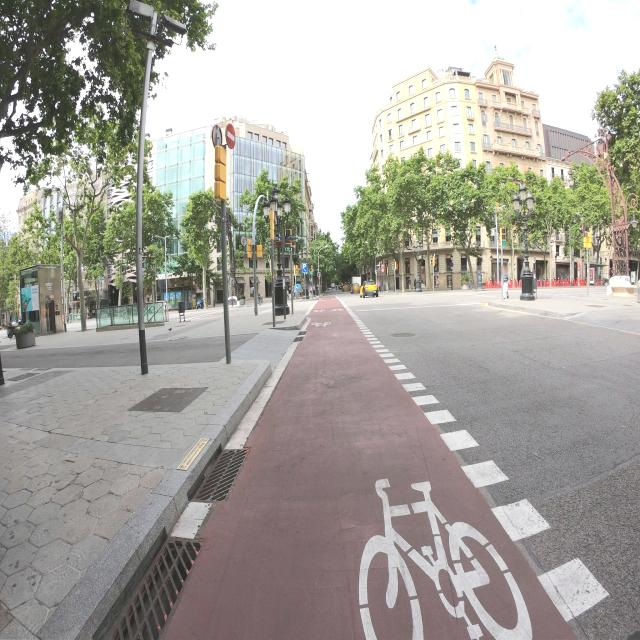car: (7, 314, 22, 339), (359, 280, 379, 298)
